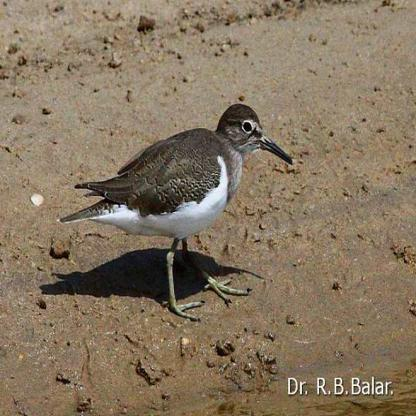Burung: (54, 107, 294, 320)
